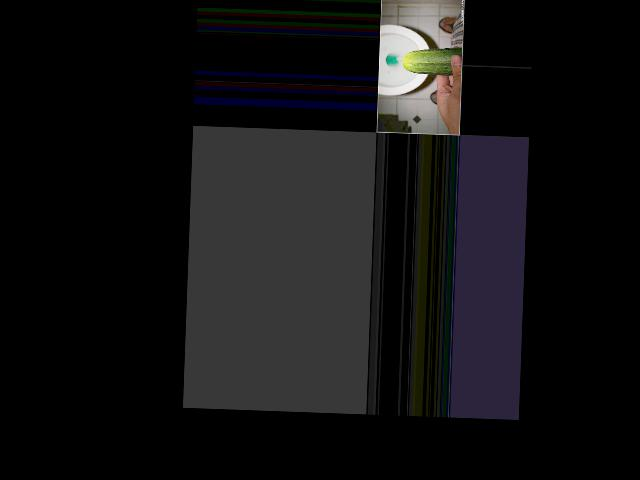cucumber: (402, 45, 463, 75)
